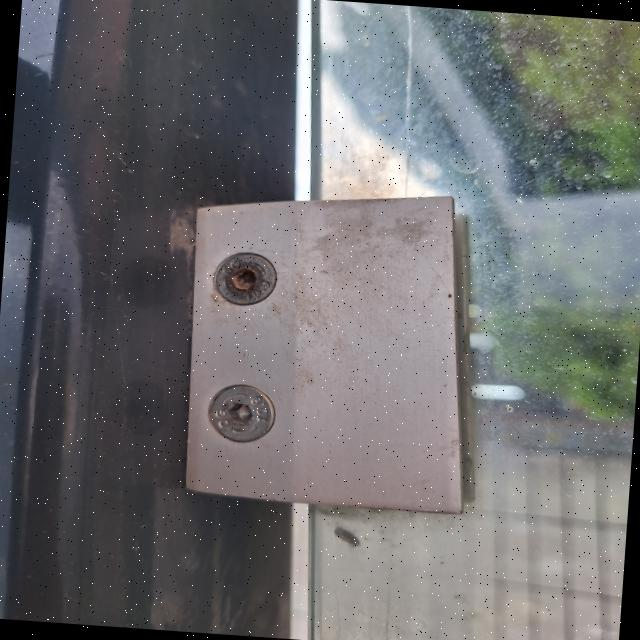Hex Socket Allen: (193, 382, 281, 444), (206, 250, 284, 306)
